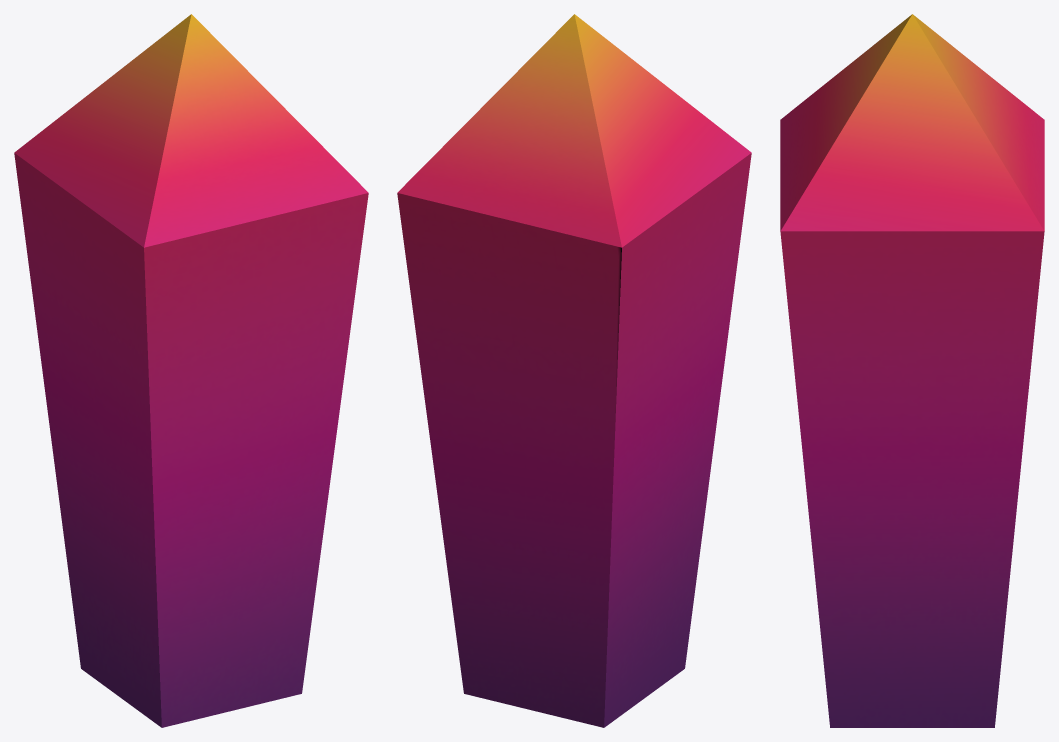
The model's file is CrystalSingle.fbx.
3 renders of one model, left to right at view 1: azimuth 30°, elevation 25°; view 2: azimuth 150°, elevation 25°; view 3: azimuth 270°, elevation 25°, orthographic.
Visible parts, largest first — view 1: CrystalSingle; view 2: CrystalSingle; view 3: CrystalSingle.
Boxes of the visible parts, box(x1,y1,x2,y2) form: CrystalSingle: box(14, 14, 368, 727); CrystalSingle: box(397, 14, 751, 727); CrystalSingle: box(780, 14, 1044, 727).
Bounding box in the file's own units: 1 × 2.84 × 1.
